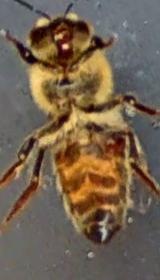varroa_mite: (96, 128, 133, 166)
